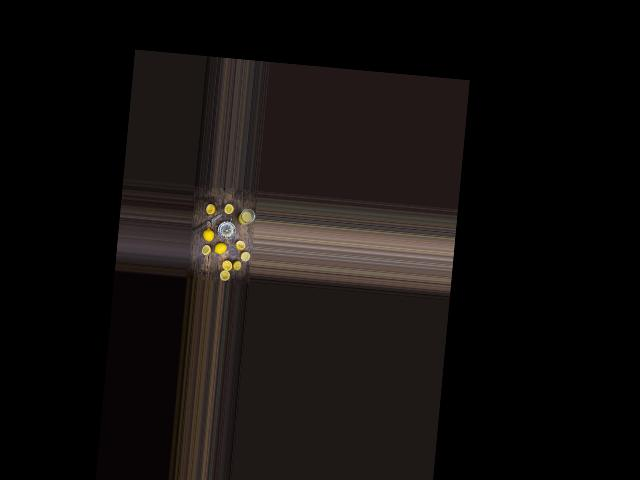lemon: (202, 228, 216, 246)
